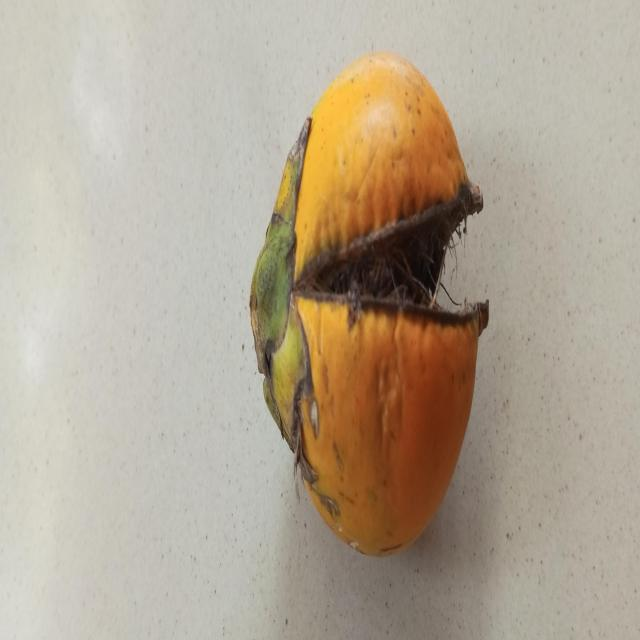damaged: (250, 53, 489, 556)
